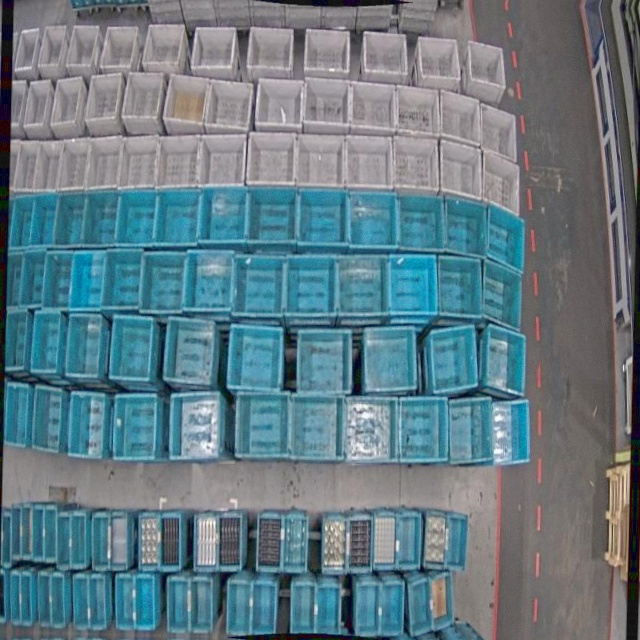Box: (295, 327, 353, 398), (362, 324, 419, 395), (227, 322, 284, 393), (341, 396, 397, 466), (335, 252, 391, 321), (237, 391, 293, 460), (428, 322, 480, 396), (284, 253, 341, 320), (169, 390, 222, 462), (397, 394, 449, 465), (164, 317, 215, 387), (234, 252, 288, 318), (388, 252, 441, 319), (448, 396, 498, 467), (296, 186, 351, 250), (290, 394, 341, 463), (435, 254, 485, 321), (346, 189, 398, 253), (248, 186, 301, 248), (183, 249, 234, 313), (392, 135, 442, 199), (441, 195, 490, 260), (199, 185, 250, 247), (397, 191, 447, 254), (114, 391, 159, 461), (477, 152, 524, 218), (343, 134, 393, 196), (110, 315, 156, 382), (139, 251, 186, 314), (482, 260, 523, 332), (490, 399, 534, 466), (156, 186, 204, 247), (487, 324, 526, 399), (436, 140, 483, 202), (295, 131, 346, 188), (254, 76, 305, 133), (202, 78, 254, 133), (246, 131, 297, 187), (198, 132, 248, 189), (486, 203, 526, 274), (303, 75, 353, 131), (347, 79, 397, 134), (67, 390, 108, 456), (394, 83, 443, 138), (102, 248, 143, 312), (439, 89, 484, 146), (140, 20, 185, 76), (117, 188, 159, 248), (162, 73, 209, 126), (156, 134, 201, 189), (65, 313, 103, 378), (480, 103, 520, 163), (117, 133, 159, 190), (71, 250, 108, 312), (98, 22, 141, 75), (84, 189, 121, 248), (86, 136, 124, 193), (31, 386, 63, 453), (34, 22, 72, 78), (56, 138, 93, 194), (246, 27, 294, 70), (121, 71, 163, 120), (304, 28, 351, 71), (31, 310, 62, 375), (466, 41, 508, 88), (54, 190, 88, 248), (417, 36, 462, 79), (363, 32, 409, 74), (31, 140, 66, 194), (84, 72, 122, 121), (191, 27, 234, 70), (44, 251, 75, 310), (3, 309, 30, 373), (324, 512, 351, 575), (29, 190, 58, 248), (51, 75, 83, 127), (280, 512, 307, 573), (397, 510, 424, 571), (20, 250, 48, 308), (346, 514, 373, 574), (12, 28, 41, 83), (372, 510, 398, 571), (423, 509, 449, 570), (218, 511, 244, 571), (3, 383, 27, 448), (444, 514, 470, 573), (258, 511, 283, 572), (408, 577, 433, 637), (251, 581, 278, 636), (66, 24, 101, 66), (23, 78, 51, 130), (379, 581, 405, 637), (195, 512, 219, 572), (431, 572, 455, 632), (315, 582, 342, 634), (225, 582, 250, 638), (189, 578, 214, 634), (159, 511, 182, 571), (166, 577, 190, 634), (13, 140, 39, 192), (9, 194, 34, 248), (138, 510, 160, 571), (355, 585, 379, 640), (290, 584, 315, 634), (109, 510, 130, 569), (133, 575, 155, 631), (86, 574, 107, 631), (115, 572, 135, 631), (90, 511, 109, 569), (71, 573, 90, 630), (55, 512, 72, 571), (50, 572, 67, 629), (42, 503, 58, 562), (69, 509, 85, 567), (36, 571, 52, 628), (30, 502, 45, 561), (18, 503, 33, 560), (18, 571, 33, 627), (8, 504, 22, 562), (9, 571, 23, 625), (11, 80, 26, 128), (1, 511, 13, 568), (10, 138, 21, 192), (0, 571, 7, 623)
